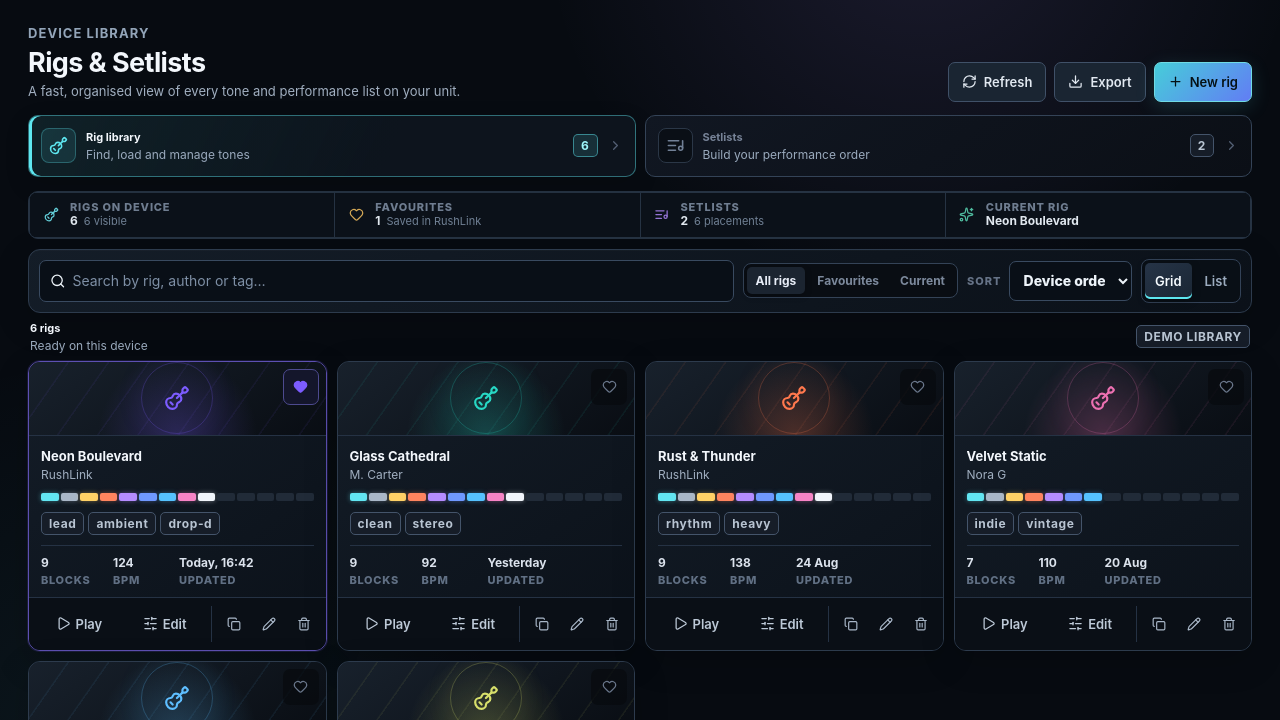
Rigs and Setlists device workflows › filters by searchable metadata, sorts by tempo, and keeps favourites app-local
The image size is (1280, 720).
Type "metal" into the field with placeholder "Search by rig, author or tag…".
click(402, 280); type("metal")  # box [72, 260, 732, 300]
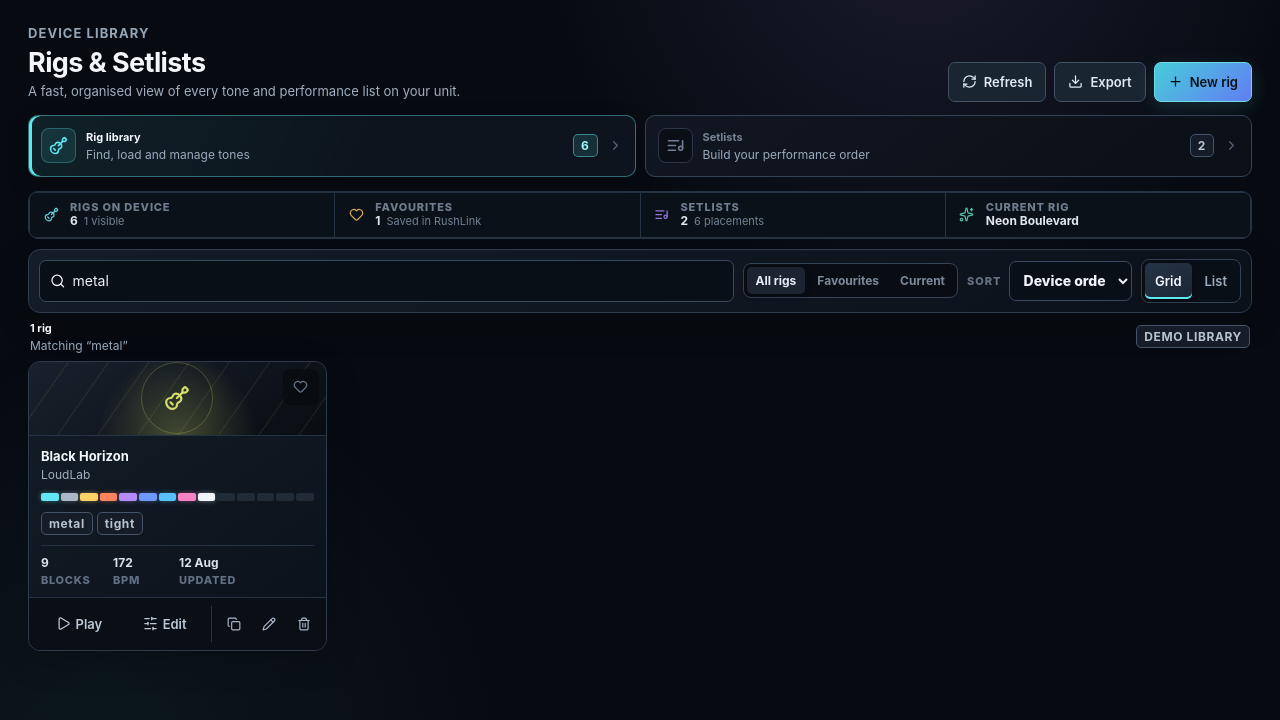
Expected: the heading "Black Horizon" is shown, [41, 448, 129, 464]
Clear the field with placeholder "Search by rig, author or tag…" at [402, 280], box [72, 260, 732, 300]
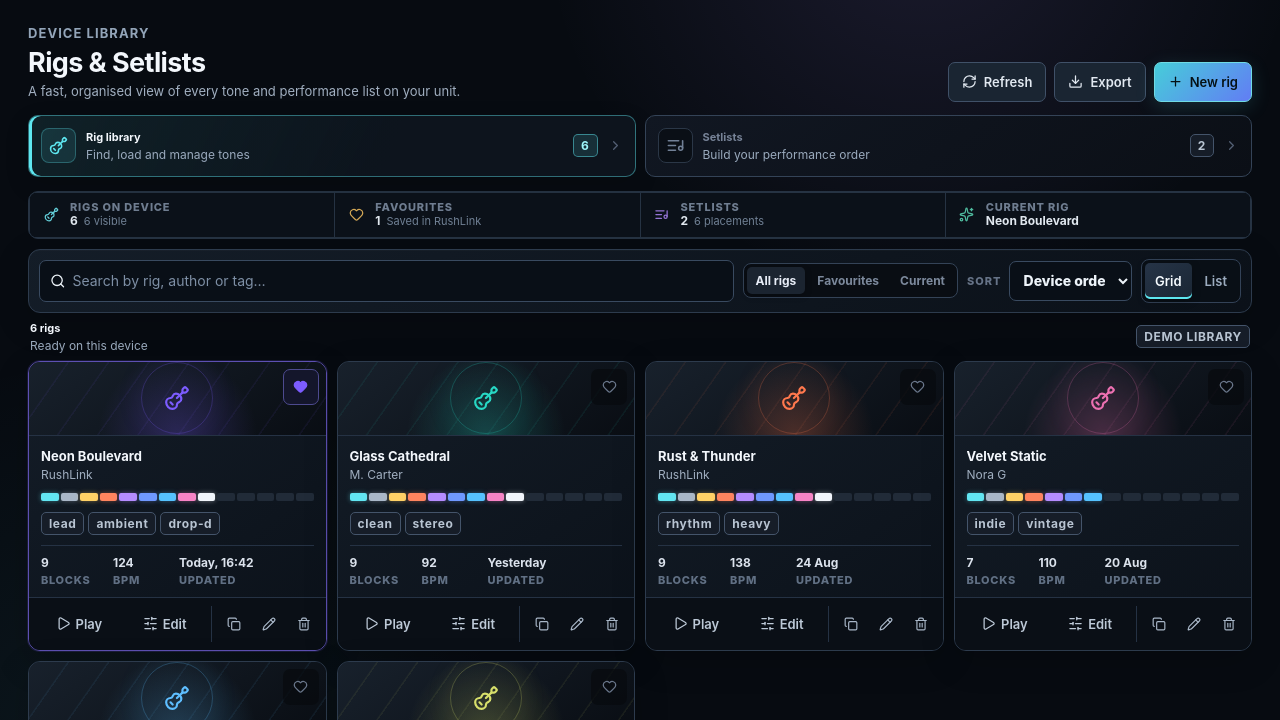
Select "Tempo high–low" in the dropdown at [1070, 280], box [1008, 260, 1132, 300]
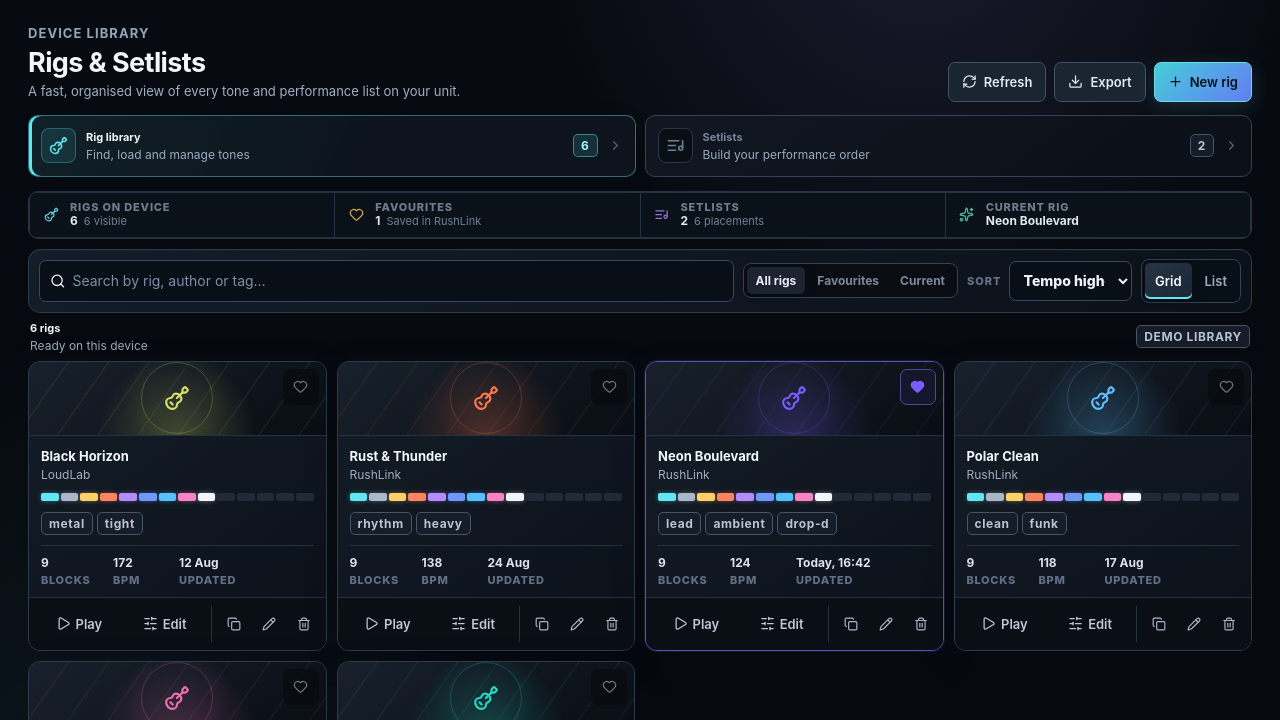
Expected: the heading "Black Horizon" is shown, [41, 448, 129, 464]
Click the button named "Add Glass Cathedral to favourites".
click(609, 686)  # box [591, 668, 627, 704]
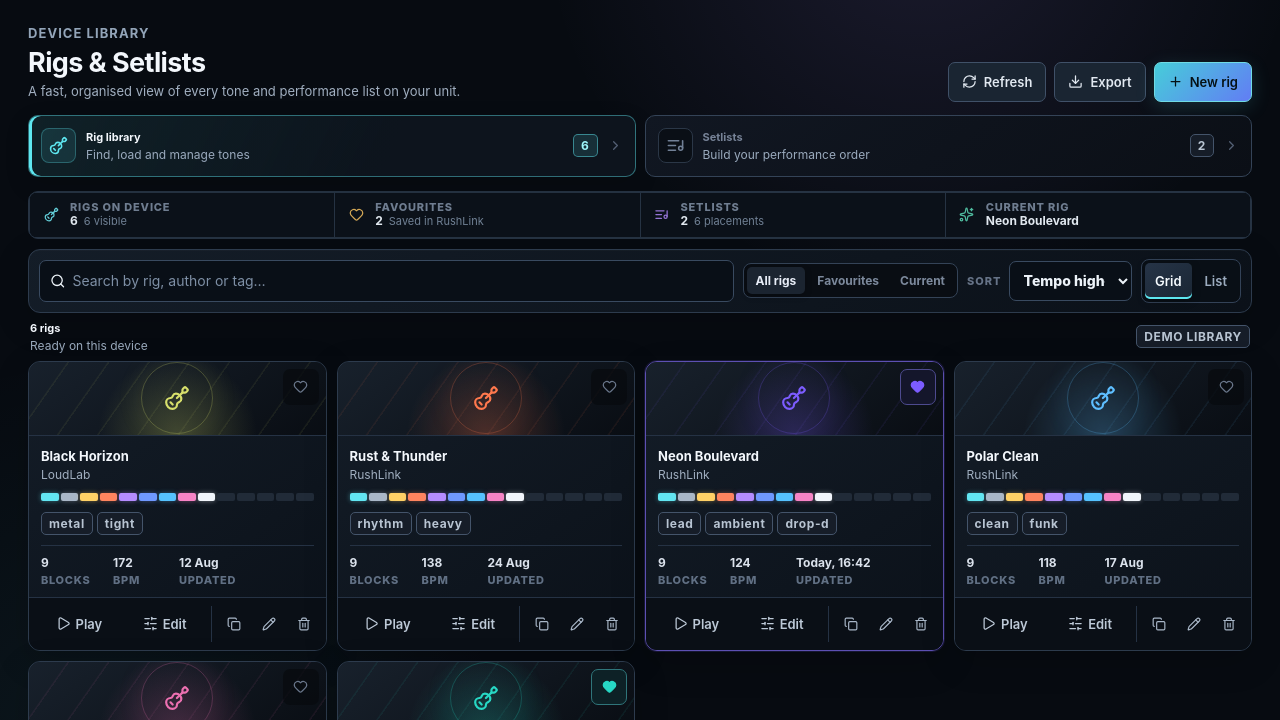
Click the button "Favourites".
click(848, 280)  # box [808, 267, 888, 294]
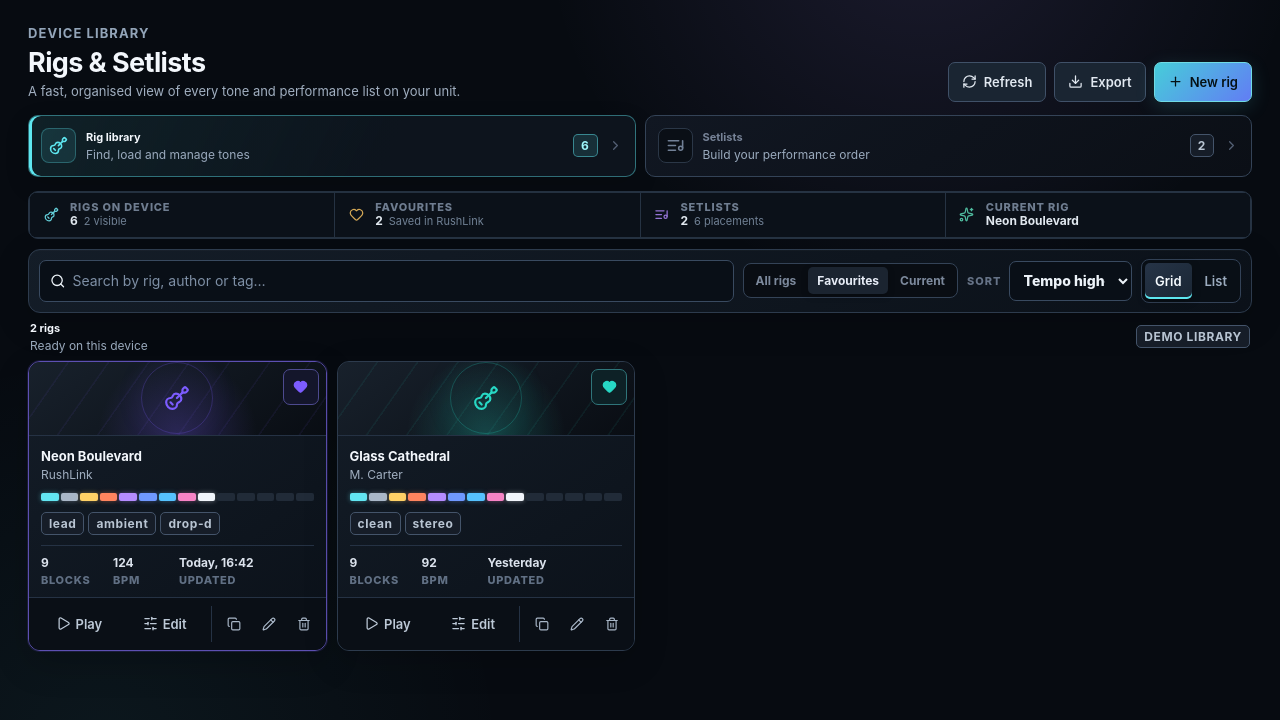
Expected: the heading "Neon Boulevard" is shown, [41, 448, 142, 464]
Expected: the heading "Glass Cathedral" is shown, [350, 448, 450, 464]
Expected: the heading "Black Horizon" is gone
